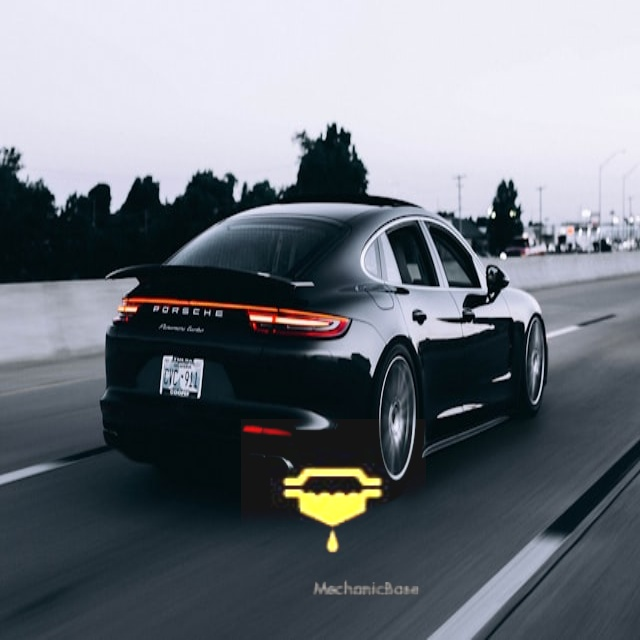symbol: (241, 419, 426, 604)
